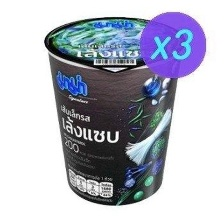paper_cup: (38, 10, 190, 209)
